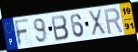6: (70, 13, 85, 38)
9: (33, 18, 49, 44)
B: (50, 14, 70, 42)
F: (13, 17, 31, 47)
R: (102, 7, 124, 36)
X: (87, 8, 108, 36)
